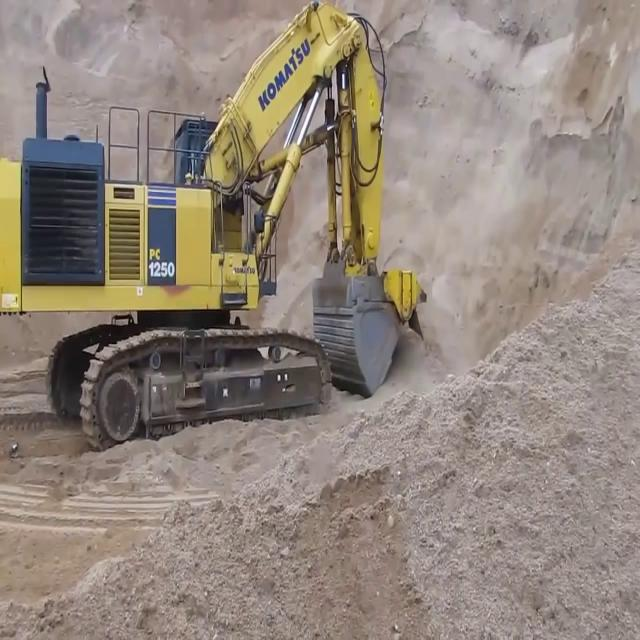excavator: (1, 7, 425, 455)
